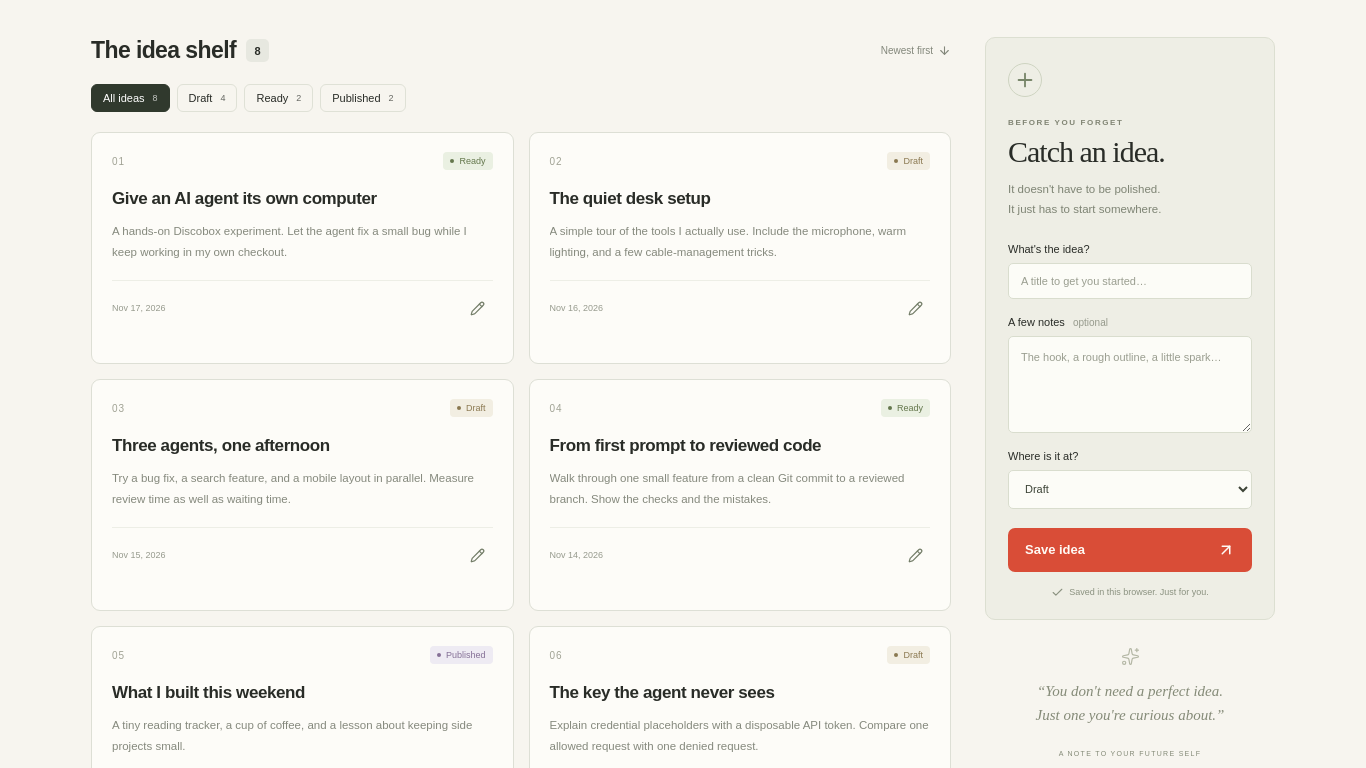
Test: ClipShelf core workflows › rejects a truly empty title and keeps the notes
(page scrolled)
Type "Keep my outline." into the text box labelled "A few notes optional" at (1130, 385), box [1008,336,1252,433]
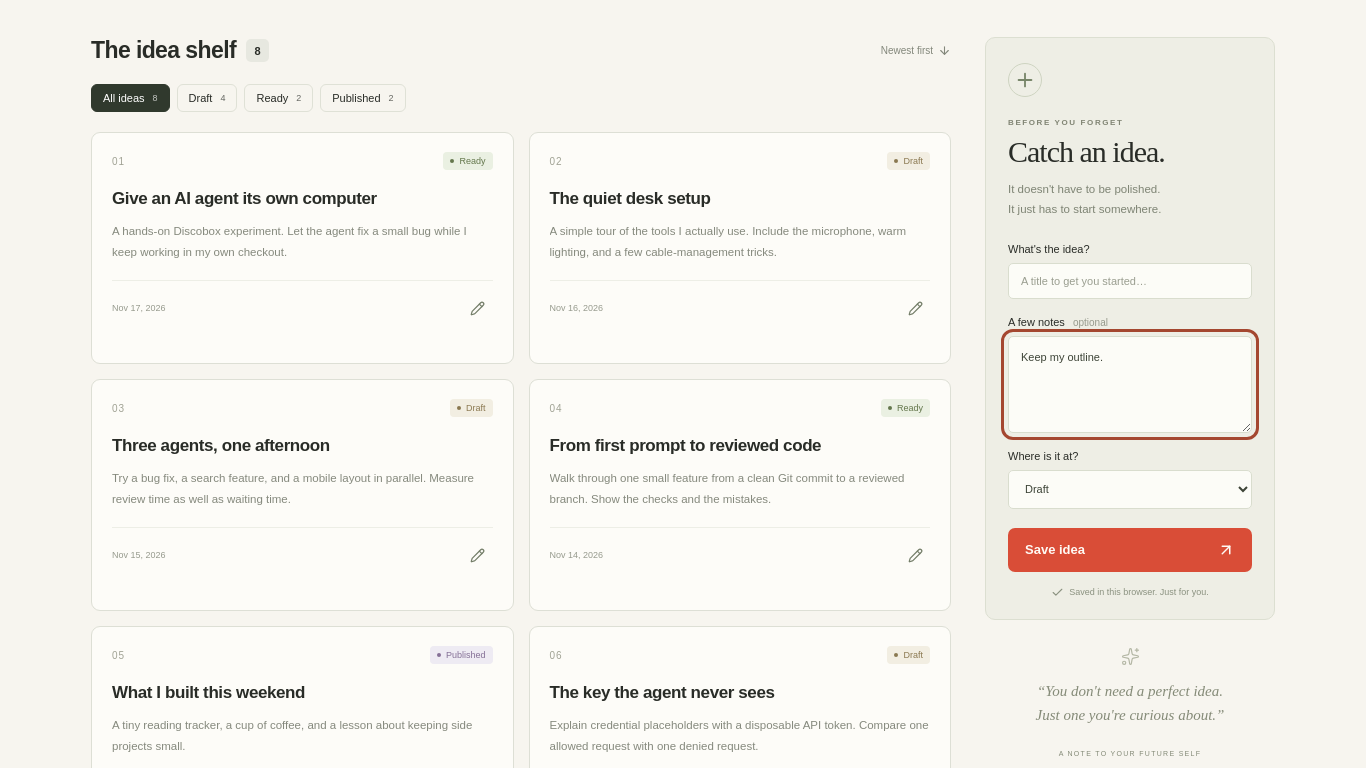
Click the button "Save idea" at (1130, 550), box [1008,528,1252,572]
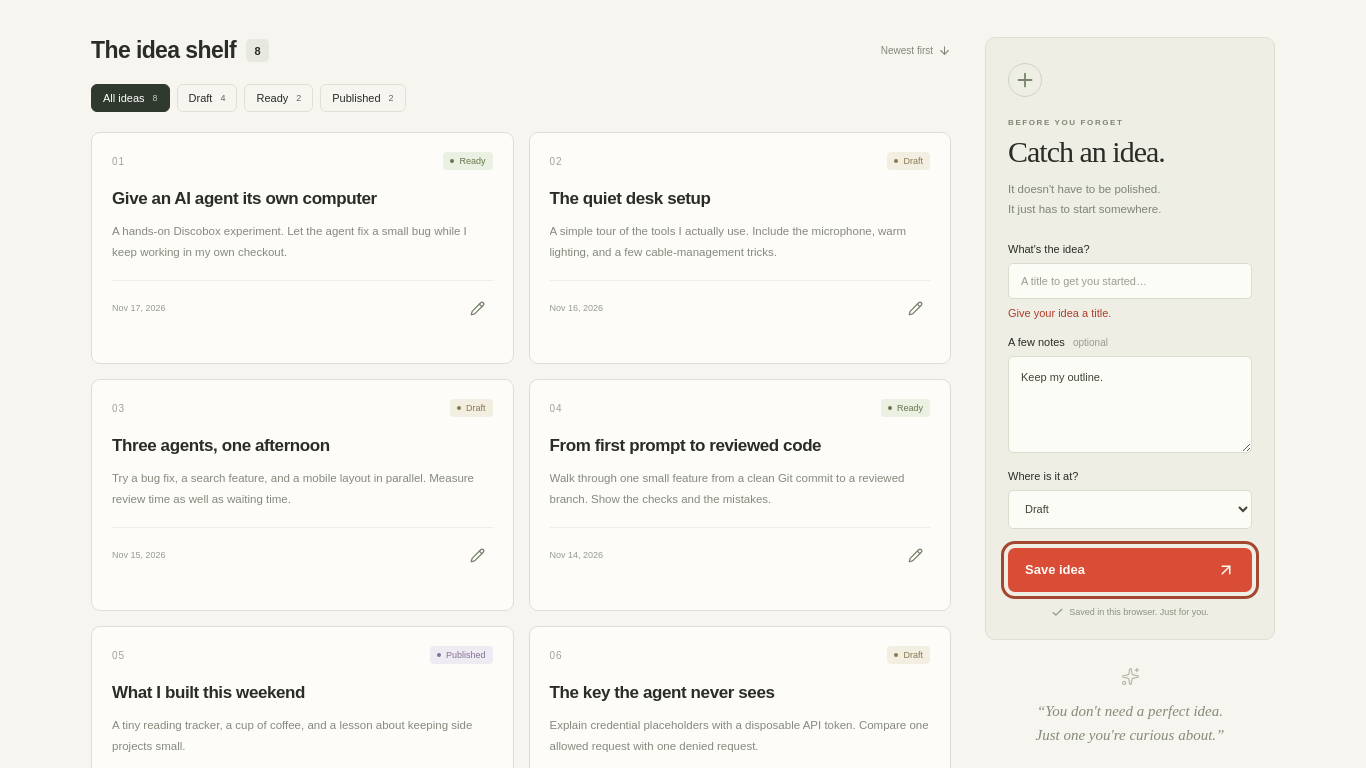
expect the message reads "Give your idea a title.": met, box [1008,307,1111,319]
